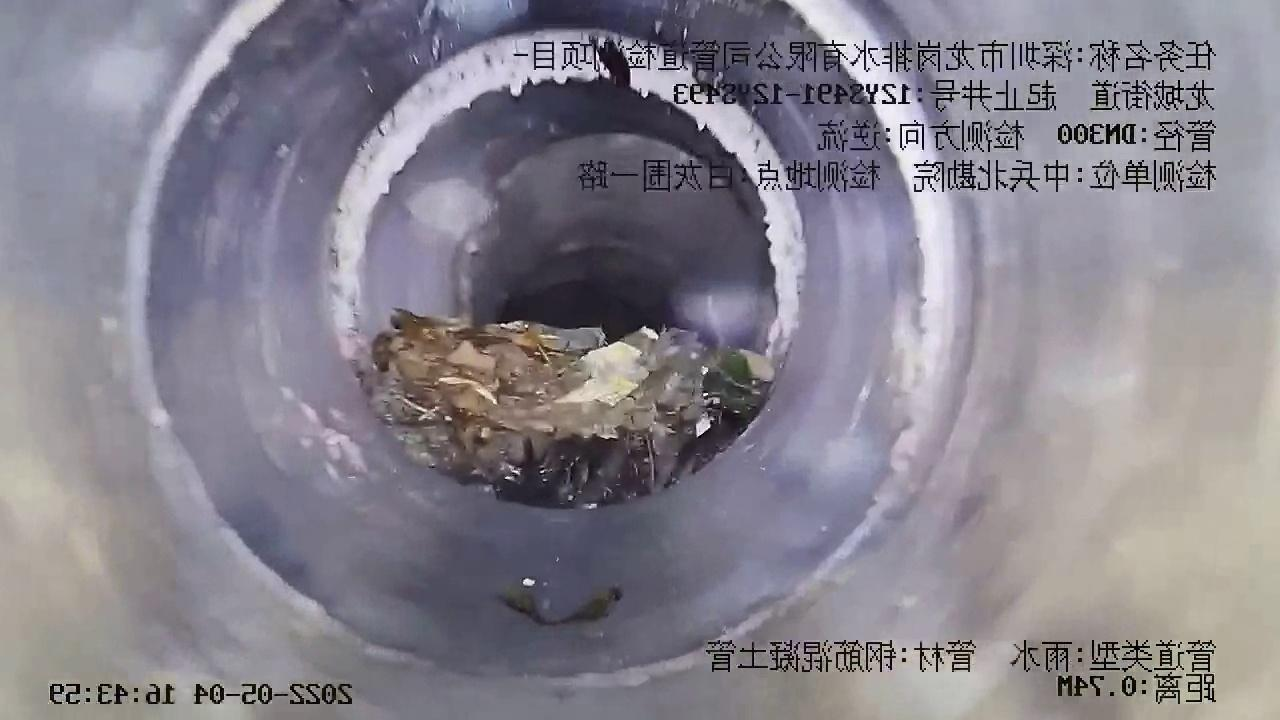CJ: (358, 310, 774, 507)
CKTJ: (123, 1, 982, 693), (322, 23, 815, 466)
